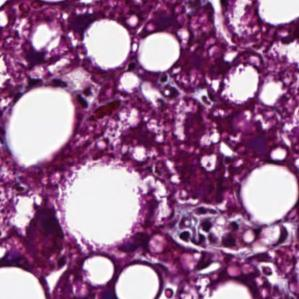inflammation: (16, 39, 60, 72)
